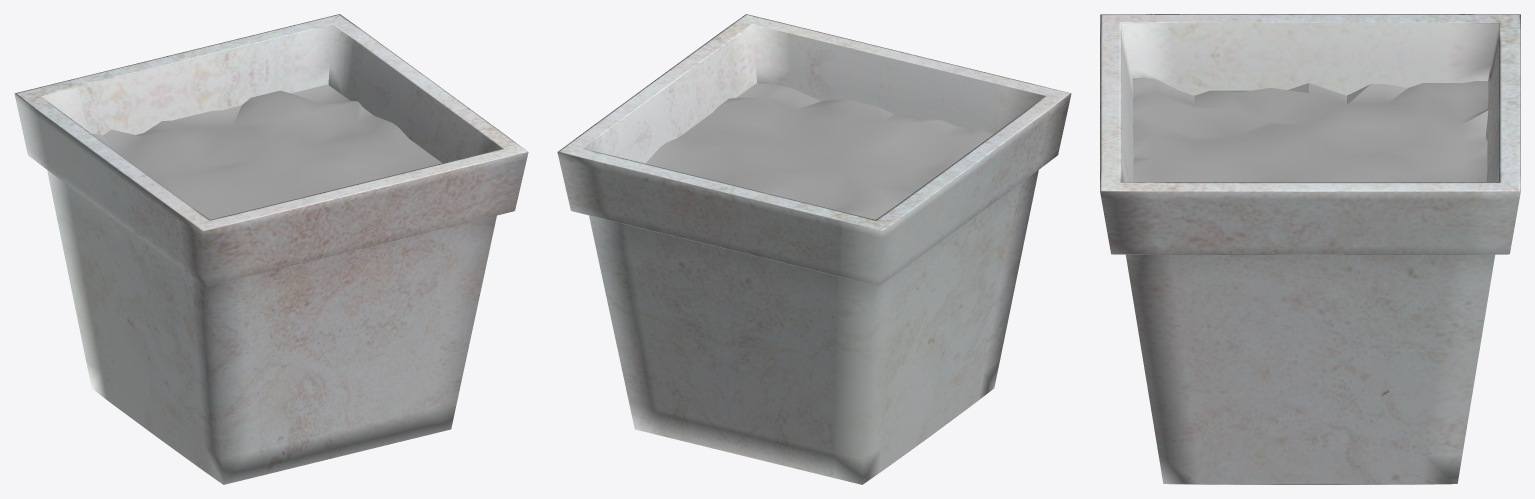
Rendered from Pot_square.fbx.
3 renders of one model, left to right at view 1: azimuth 30°, elevation 25°; view 2: azimuth 150°, elevation 25°; view 3: azimuth 270°, elevation 25°, orthographic. The views are drawn at different scales.
Parts seen in each view (by area): view 1: pPlane2; view 2: pPlane2; view 3: pPlane2.
Boxes of the visible parts, x1,y1,x2,y2 form: pPlane2: [14, 14, 528, 484]; pPlane2: [557, 14, 1071, 484]; pPlane2: [1100, 14, 1520, 484].
Bounding box in the file's own units: 34.67 × 29.12 × 34.67.
